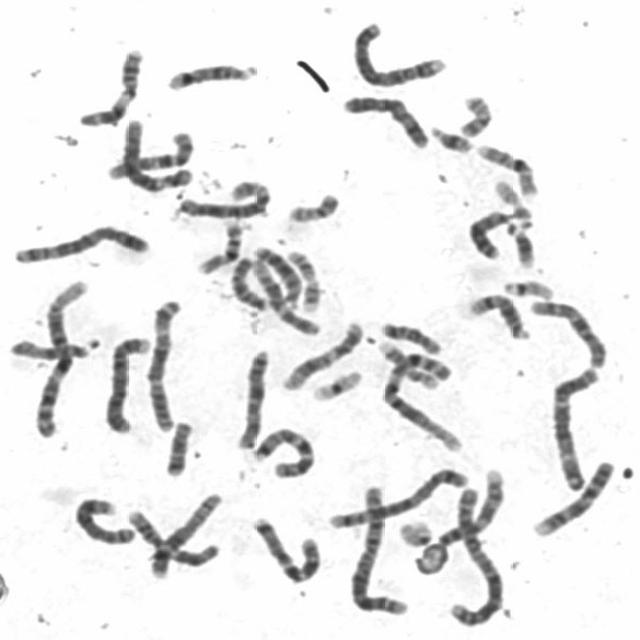A1: (28, 274, 91, 440), (375, 342, 464, 454)
A2: (346, 479, 411, 617), (452, 483, 505, 629)
A3: (545, 361, 603, 493), (141, 293, 186, 434)
B4: (346, 16, 450, 89), (100, 330, 154, 435)
B5: (322, 462, 471, 531), (9, 220, 152, 265)
C10: (524, 293, 609, 370), (104, 128, 198, 184)
C11: (122, 504, 225, 570), (73, 43, 147, 128)
C12: (279, 316, 368, 392), (247, 253, 325, 338)
C6: (117, 114, 194, 194), (170, 175, 276, 221)
C7: (245, 510, 325, 585), (246, 422, 317, 479)
C8: (147, 490, 226, 581), (69, 493, 137, 547)
C9: (528, 455, 617, 538), (434, 467, 504, 549)
D13: (248, 241, 306, 309), (463, 204, 525, 262)
D14: (463, 288, 533, 342), (160, 57, 264, 92)
D15: (226, 252, 272, 312), (6, 332, 98, 361)
E16: (472, 138, 540, 200), (192, 215, 248, 275)
E17: (374, 336, 443, 391), (282, 245, 325, 314)
E18: (375, 317, 443, 356), (161, 416, 197, 478)
F19: (306, 365, 364, 403), (394, 516, 436, 548)
F20: (282, 187, 342, 224), (454, 90, 495, 139)
G21: (501, 217, 538, 269), (425, 120, 476, 155)
G22: (490, 176, 534, 228), (498, 273, 557, 300)
X: (337, 91, 431, 151), (232, 345, 273, 451)
